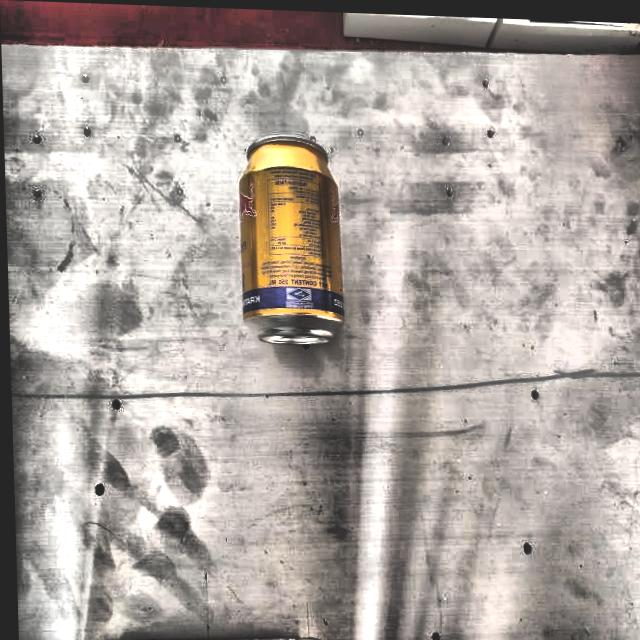can: (234, 128, 339, 354)
